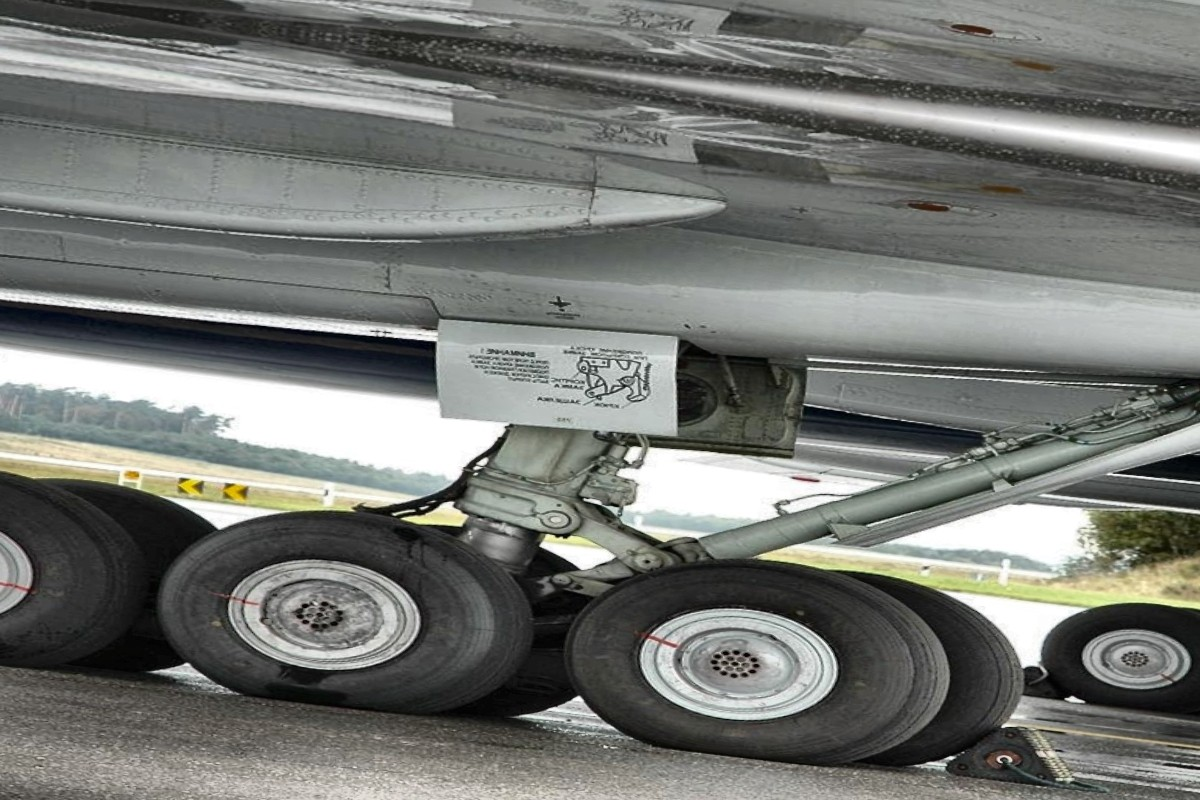chock: (935, 713, 1102, 797), (1008, 659, 1077, 704)
wheel: (534, 531, 987, 788), (122, 484, 562, 738), (0, 438, 163, 685), (1028, 585, 1200, 725)
